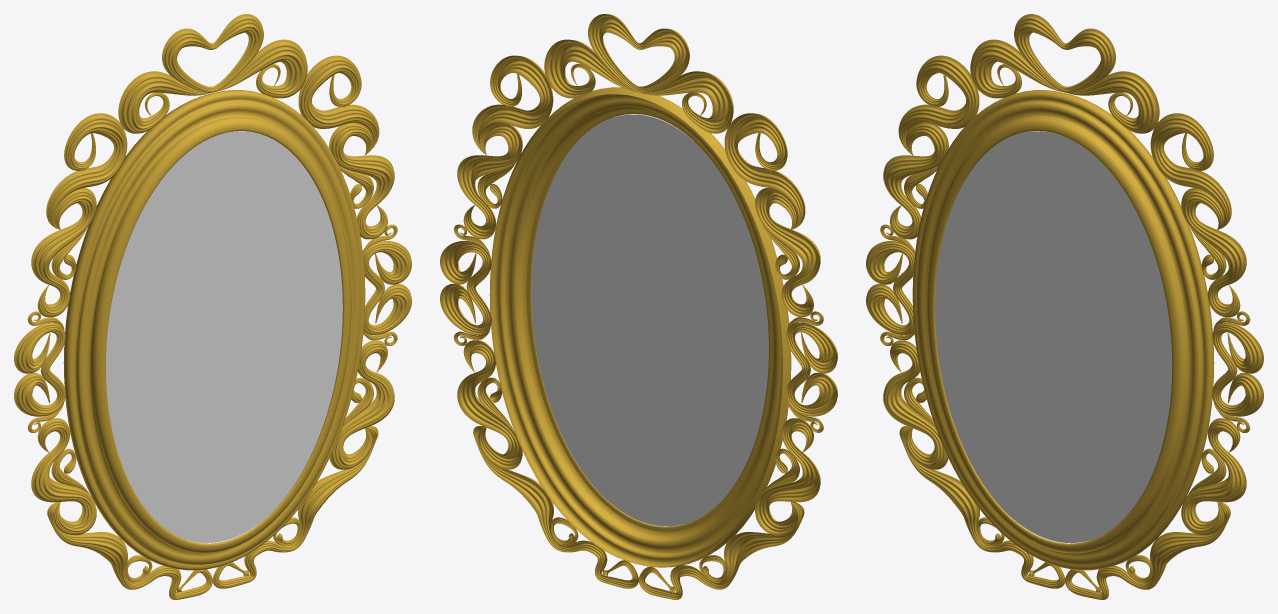
Rendered from mirror5.glb.
The picture shows the model from 3 angles, left to right: view 1: azimuth 30°, elevation 25°; view 2: azimuth 150°, elevation 25°; view 3: azimuth 330°, elevation 25°; orthographic projection.
Parts seen in each view (by area): view 1: mirror_glass_6, mirror_frame.001_9, NurbsPath.010_19, NurbsPath.011_20, NurbsPath.017_26, NurbsPath.013_22, NurbsPath.015_24, NurbsPath.012_21, NurbsPath.014_23, NurbsPath.018_27, NurbsPath.016_25; view 2: mirror_glass_6, mirror_frame.001_9, NurbsPath.010_19, NurbsPath.011_20, NurbsPath.017_26, NurbsPath.013_22, NurbsPath.015_24, NurbsPath.012_21, NurbsPath.014_23, NurbsPath.018_27, NurbsPath.016_25; view 3: mirror_glass_6, mirror_frame.001_9, NurbsPath.010_19, NurbsPath.011_20, NurbsPath.017_26, NurbsPath.013_22, NurbsPath.015_24, NurbsPath.012_21, NurbsPath.014_23, NurbsPath.018_27, NurbsPath.016_25.
Boxes of the visible parts, x1=… form: mirror_glass_6: x1=106, y1=131, x2=342, y2=542; mirror_frame.001_9: x1=63, y1=90, x2=365, y2=570; NurbsPath.010_19: x1=31, y1=122, x2=394, y2=535; NurbsPath.011_20: x1=46, y1=55, x2=379, y2=229; NurbsPath.017_26: x1=14, y1=241, x2=411, y2=416; NurbsPath.013_22: x1=47, y1=426, x2=378, y2=599; NurbsPath.015_24: x1=118, y1=39, x2=307, y2=133; NurbsPath.012_21: x1=162, y1=14, x2=263, y2=92; NurbsPath.014_23: x1=51, y1=165, x2=373, y2=494; NurbsPath.018_27: x1=27, y1=224, x2=397, y2=432; NurbsPath.016_25: x1=125, y1=517, x2=300, y2=583; mirror_glass_6: x1=531, y1=114, x2=768, y2=526; mirror_frame.001_9: x1=489, y1=87, x2=791, y2=567; NurbsPath.010_19: x1=457, y1=122, x2=820, y2=535; NurbsPath.011_20: x1=472, y1=55, x2=805, y2=229; NurbsPath.017_26: x1=440, y1=241, x2=837, y2=416; NurbsPath.013_22: x1=473, y1=426, x2=804, y2=599; NurbsPath.015_24: x1=544, y1=39, x2=733, y2=133; NurbsPath.012_21: x1=588, y1=14, x2=689, y2=92; NurbsPath.014_23: x1=477, y1=162, x2=799, y2=494; NurbsPath.018_27: x1=453, y1=224, x2=823, y2=432; NurbsPath.016_25: x1=550, y1=517, x2=726, y2=583; mirror_glass_6: x1=935, y1=131, x2=1171, y2=542; mirror_frame.001_9: x1=912, y1=90, x2=1214, y2=570; NurbsPath.010_19: x1=883, y1=122, x2=1246, y2=535; NurbsPath.011_20: x1=898, y1=55, x2=1231, y2=229; NurbsPath.017_26: x1=866, y1=241, x2=1263, y2=416; NurbsPath.013_22: x1=899, y1=426, x2=1230, y2=599; NurbsPath.015_24: x1=970, y1=39, x2=1159, y2=133; NurbsPath.012_21: x1=1014, y1=14, x2=1115, y2=92; NurbsPath.014_23: x1=904, y1=165, x2=1226, y2=494; NurbsPath.018_27: x1=880, y1=224, x2=1250, y2=432; NurbsPath.016_25: x1=977, y1=517, x2=1152, y2=583.
Bounding box in the file's own units: 1.05 × 1.44 × 0.0668.
